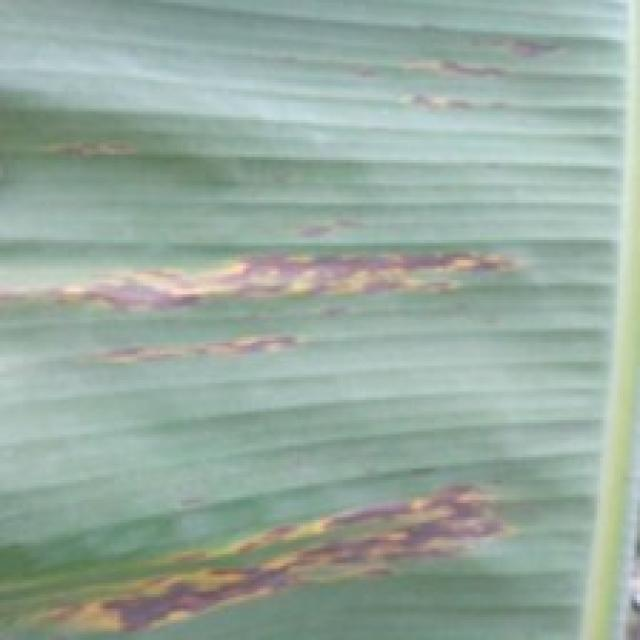Early_leaf_spot: (27, 465, 514, 640), (29, 248, 526, 381), (358, 5, 571, 148), (44, 117, 153, 192)
